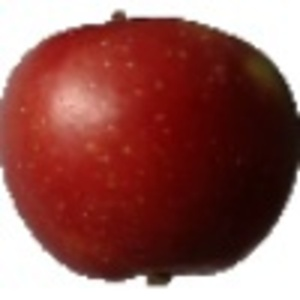maçã braeburn: (1, 9, 300, 287)
